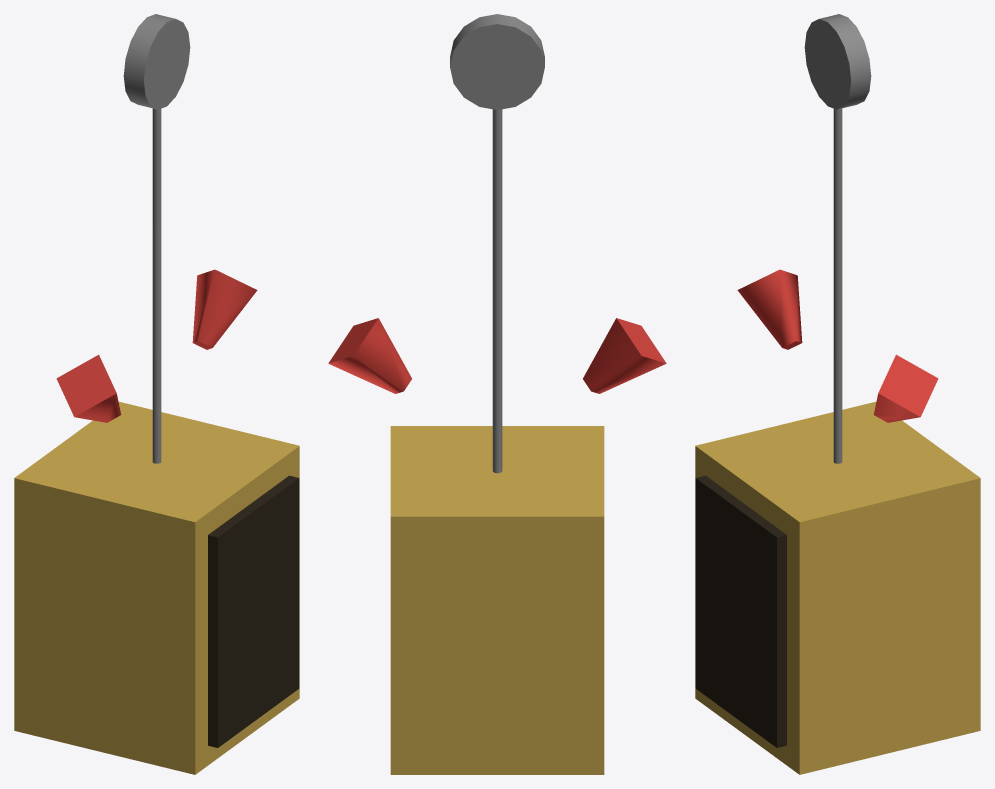
The model's file is elevator.glb.
The picture shows the model from 3 angles, left to right: view 1: azimuth 30°, elevation 25°; view 2: azimuth 150°, elevation 25°; view 3: azimuth 270°, elevation 25°; orthographic projection. The views are drawn at different scales.
Size of the model in its own units: 1.23 by 3.3 by 1.23.
